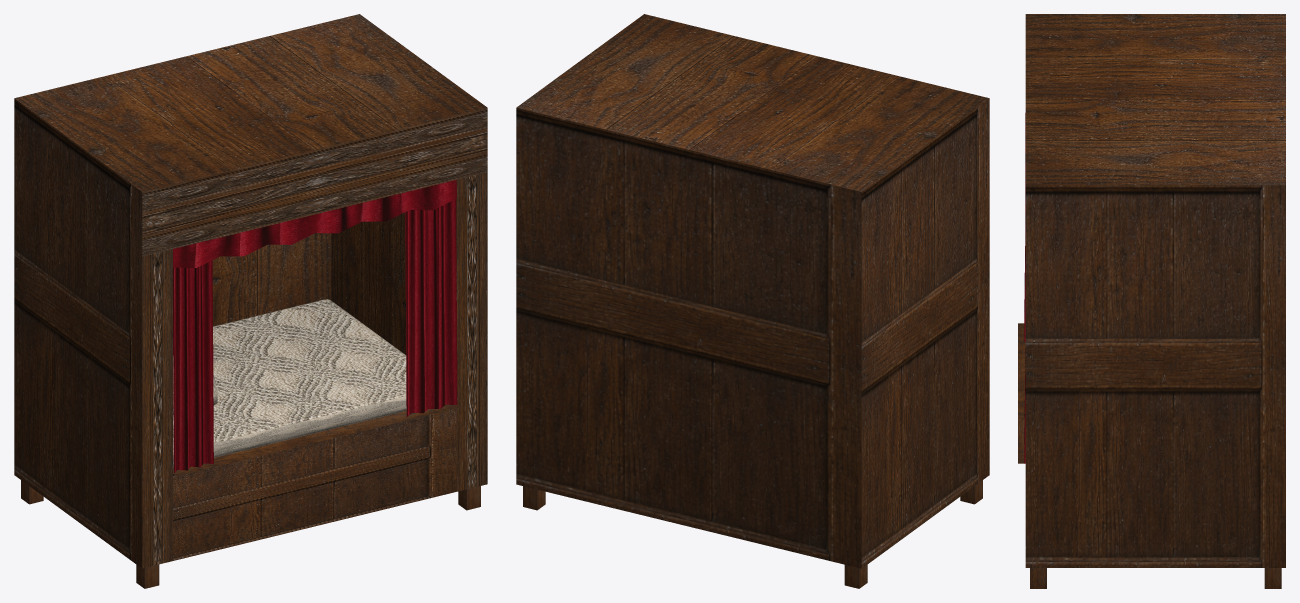
File: Antique_Box_Bed_V3.glb
3 views of the same model, side by side, from view 1: azimuth 30°, elevation 25°; view 2: azimuth 150°, elevation 25°; view 3: azimuth 270°, elevation 25° (orthographic).
Parts seen in each view (by area): view 1: Antique Box Bed V3; view 2: Antique Box Bed V3; view 3: Antique Box Bed V3.
Part boxes in pixels (x1,y1,x2,y2): Antique Box Bed V3: [14, 14, 487, 588]; Antique Box Bed V3: [516, 14, 989, 588]; Antique Box Bed V3: [1018, 14, 1285, 588].
Size of the model in its own units: 1.9 by 2.1 by 1.26.
1 material, 1 textured.
